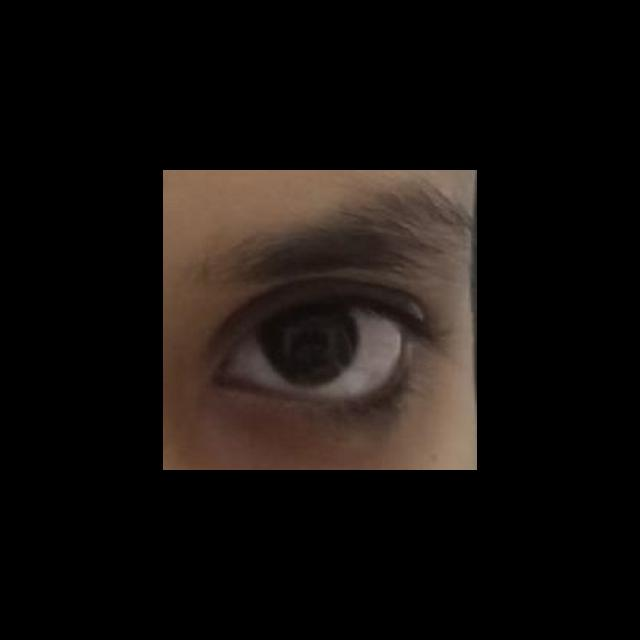eye: (221, 302, 408, 403)
iris: (258, 307, 361, 388)
